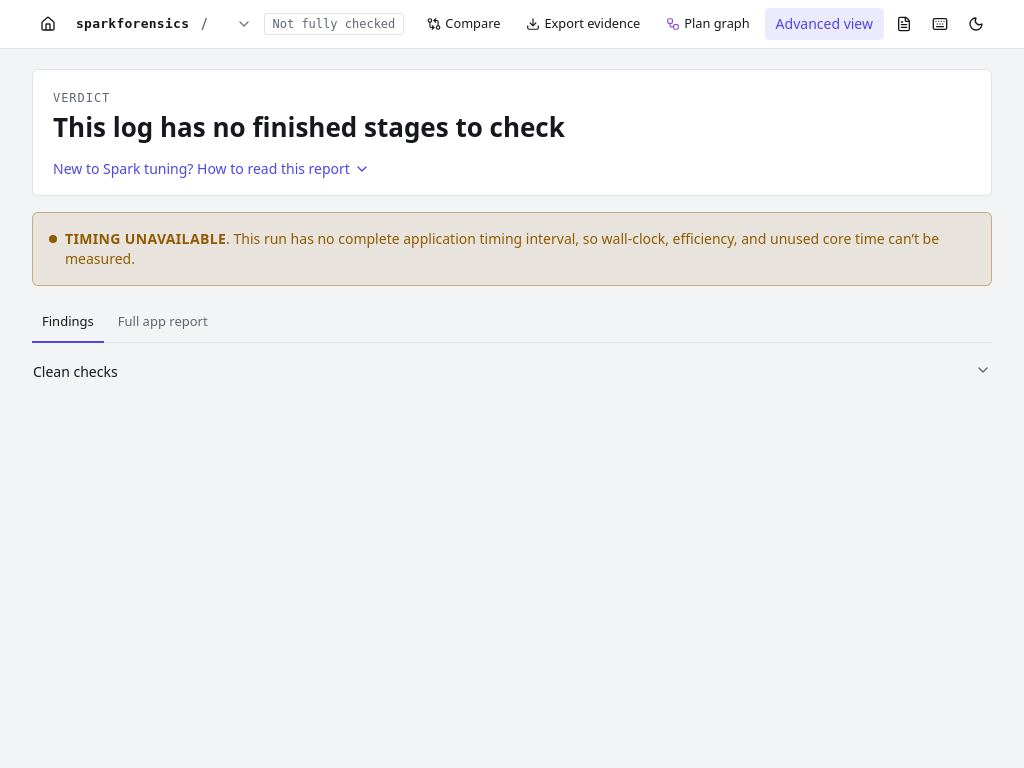
Test case: confirming an oversized initial full-scope request keeps the graph withheld until confirmation, then renders it
This screenshot has width=1024, height=768.
Click the button "Plan graph": (708, 24) [655,10,761,38]
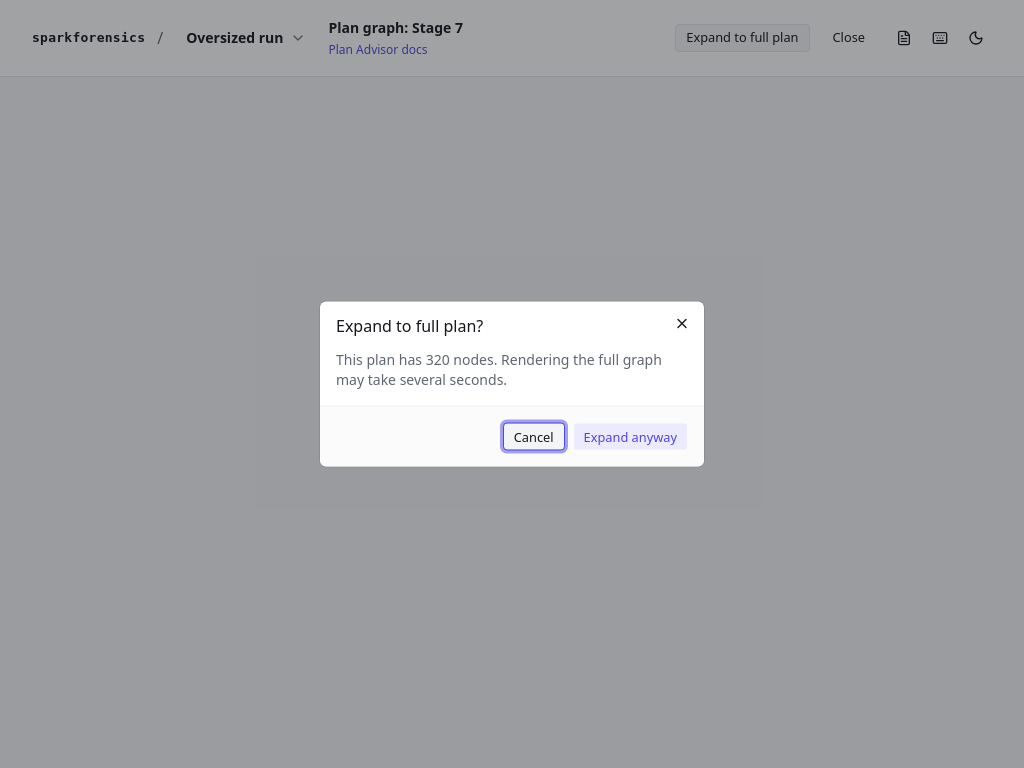
Expected: the heading "Expand to full plan?" is shown, [336,314,483,336]
Expected: the text "This plan has 320 nodes" is shown, [336,350,688,390]
Click the button "Expand anyway": (630, 436) [573,422,688,450]
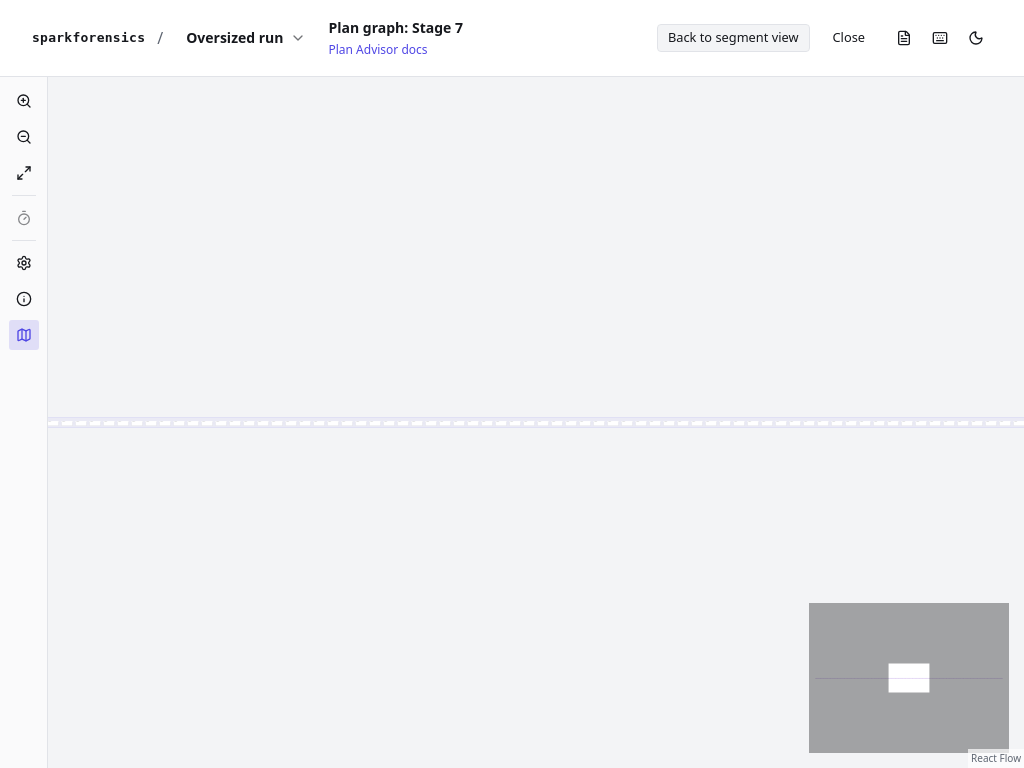
Expected: the button "Expand to full plan?" is gone
Expected: the button "Back to segment view" is shown, [657,24,810,52]
